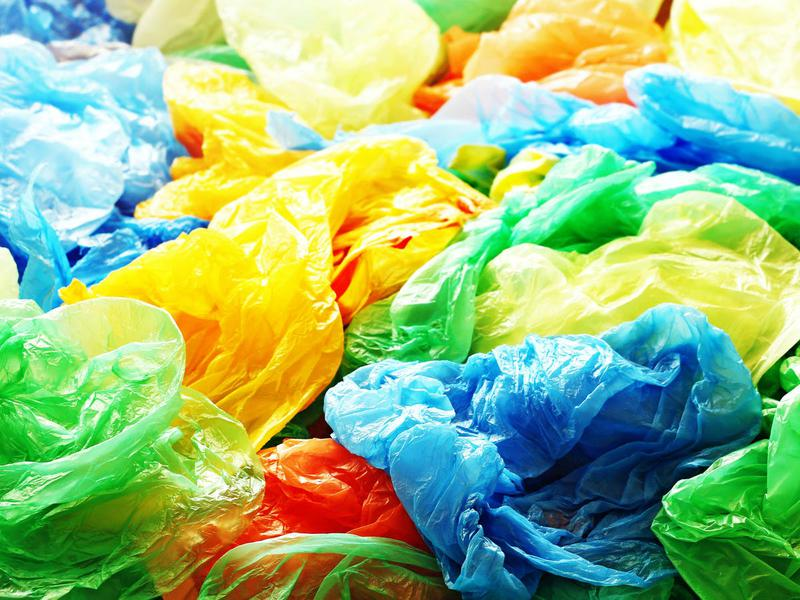plastic: (321, 292, 767, 600), (1, 296, 270, 600), (56, 180, 350, 451), (467, 189, 798, 384), (1, 30, 215, 300), (246, 130, 499, 297), (207, 1, 452, 144), (646, 381, 800, 600), (580, 45, 800, 186), (459, 1, 675, 109)
